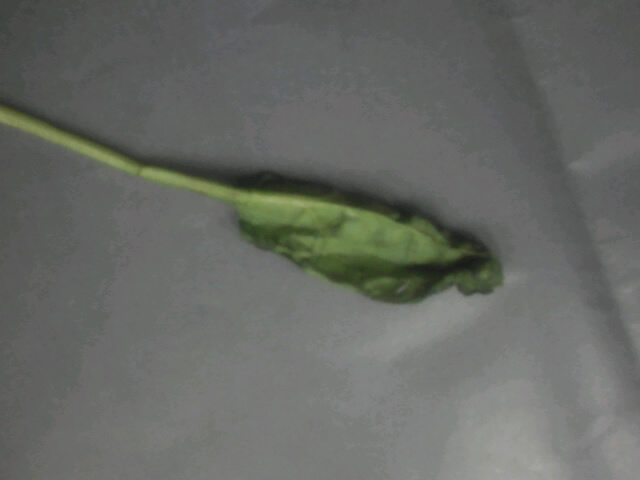yellow: (112, 136, 518, 313)
